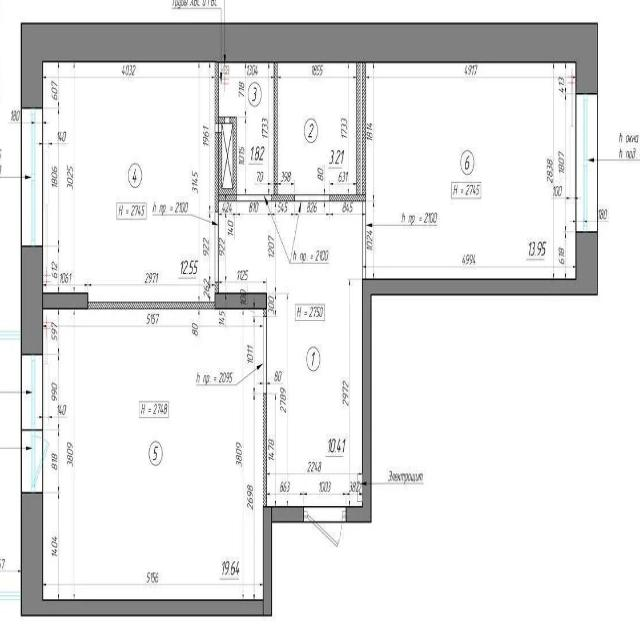Corridors: (219, 202, 362, 506), (278, 62, 356, 193), (219, 64, 273, 194), (0, 341, 20, 590)
Doors: (21, 430, 51, 493), (303, 507, 347, 549), (263, 316, 267, 393), (237, 194, 271, 203), (215, 212, 219, 283), (294, 195, 330, 202), (362, 202, 365, 278)
LBwalls: (346, 231, 598, 523), (20, 22, 598, 109), (20, 493, 304, 616), (21, 246, 43, 354), (215, 293, 267, 310), (43, 293, 88, 310)
Offices: (43, 310, 262, 599), (366, 63, 575, 278), (43, 62, 215, 301)
Walls: (329, 62, 366, 201), (215, 62, 237, 212), (271, 61, 294, 202), (87, 301, 215, 310), (263, 394, 267, 507), (215, 283, 219, 293), (263, 309, 267, 319)
Windows: (576, 94, 598, 232), (21, 108, 43, 246), (21, 354, 43, 429), (0, 591, 20, 602), (1, 330, 20, 340)
